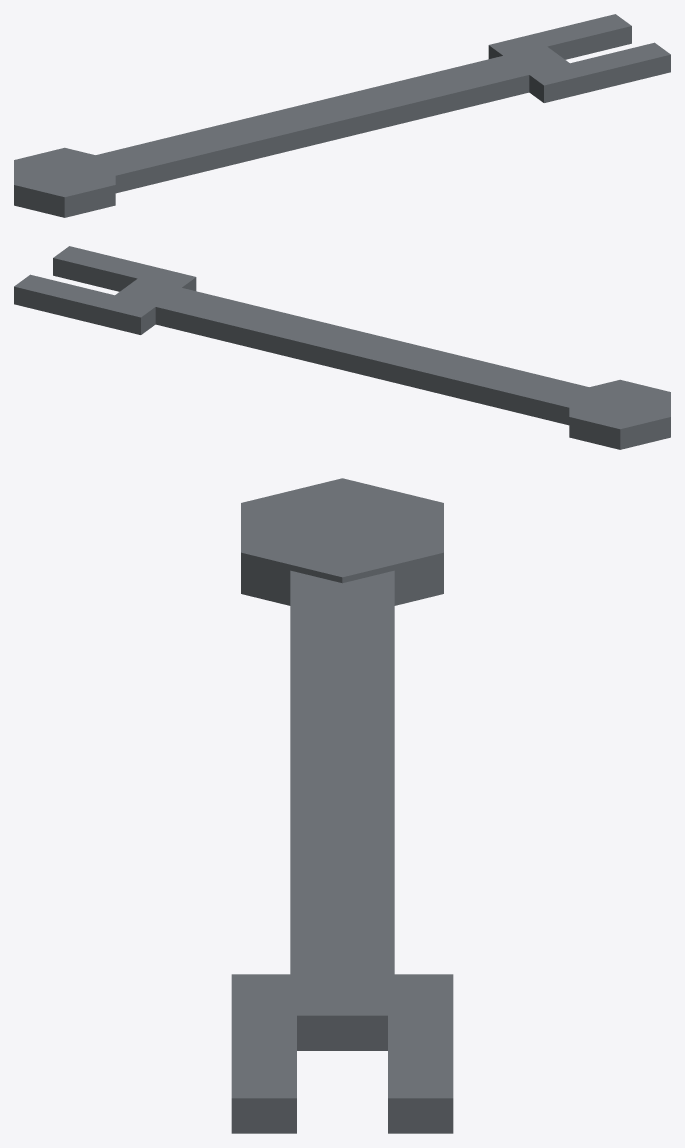
The model's file is SM_Prop_Wrench.glb.
3 renders of one model, top to bottom at view 1: azimuth 30°, elevation 25°; view 2: azimuth 150°, elevation 25°; view 3: azimuth 270°, elevation 25°, orthographic. The views are drawn at different scales.
Parts seen in each view (by area): view 1: SM_Prop_Wrench; view 2: SM_Prop_Wrench; view 3: SM_Prop_Wrench.
Boxes of the visible parts, bbox=[...] form: SM_Prop_Wrench: bbox=[14, 14, 670, 217]; SM_Prop_Wrench: bbox=[14, 246, 670, 449]; SM_Prop_Wrench: bbox=[231, 478, 453, 1133].
Size of the model in its own units: 0.223 by 0.007 by 0.034.
1 material, 1 textured.
